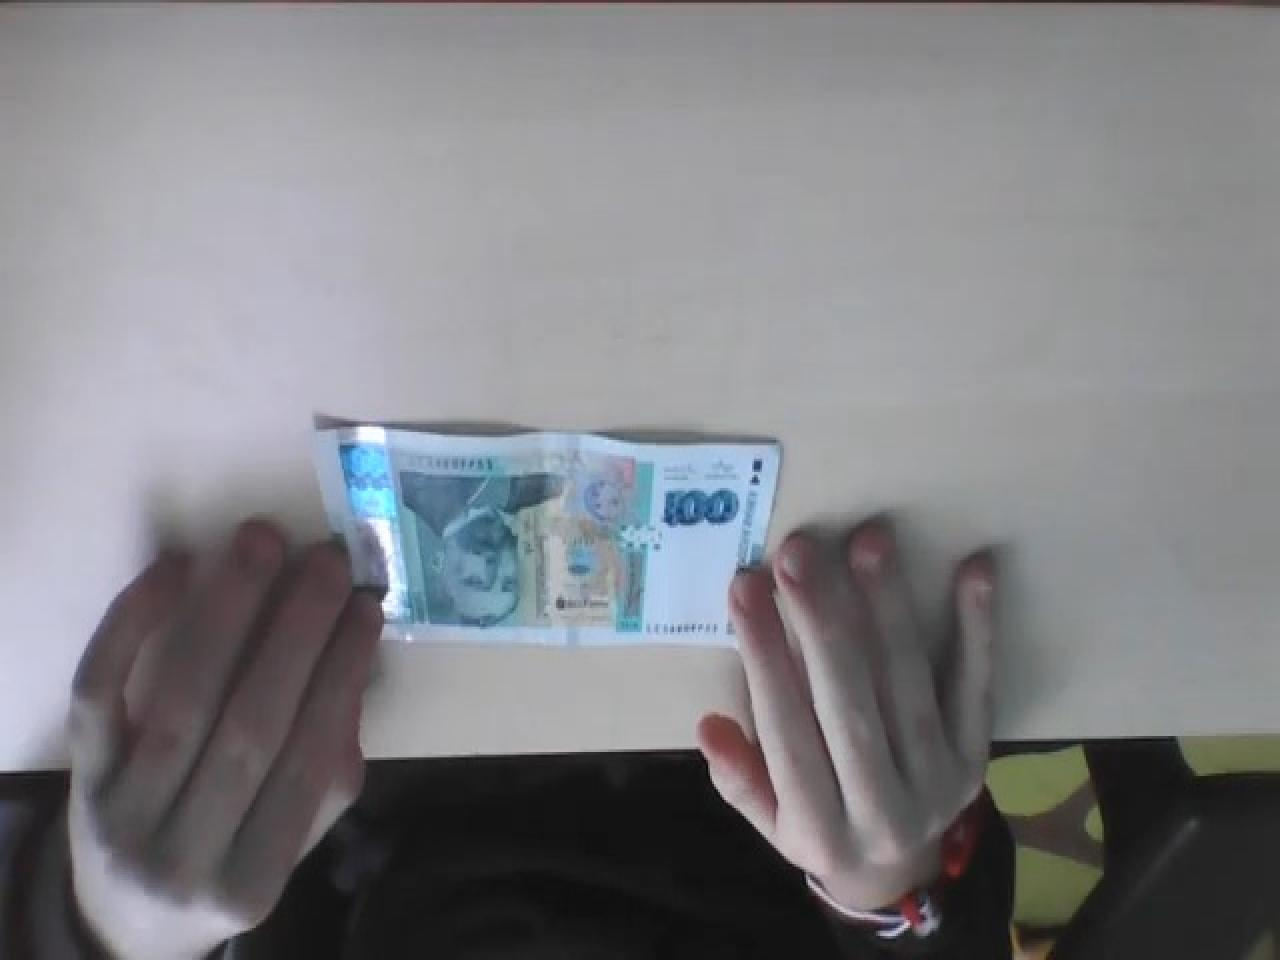100leva: (312, 425, 780, 650), (398, 469, 564, 631), (660, 488, 740, 530)
